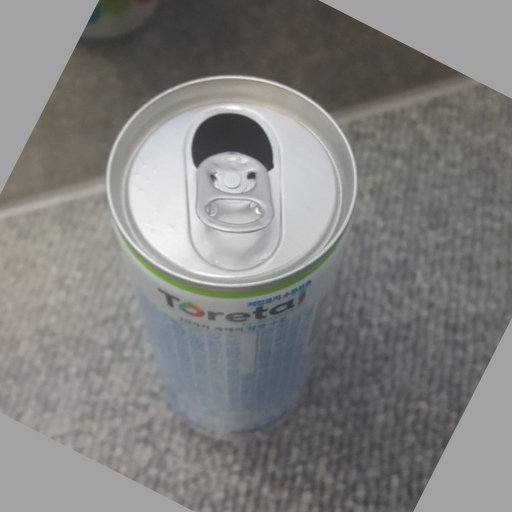Metal_0: (104, 75, 361, 437)
